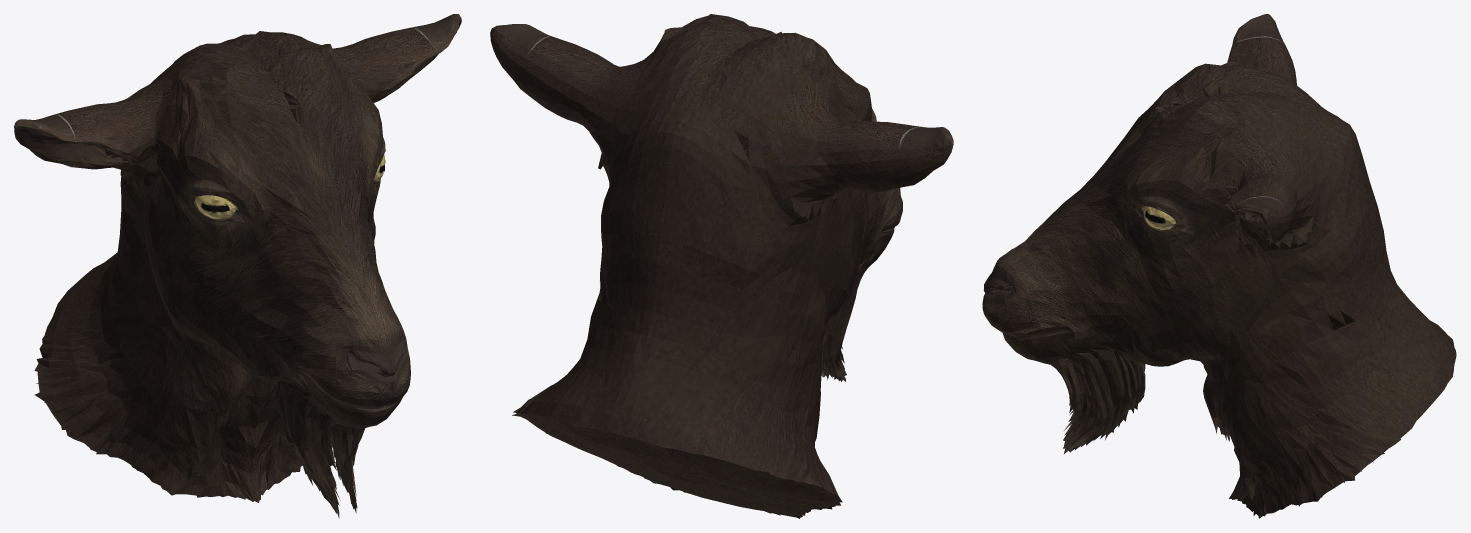
File: ewm_goathead.glb
3 renders of one model, left to right at view 1: azimuth 30°, elevation 25°; view 2: azimuth 150°, elevation 25°; view 3: azimuth 270°, elevation 25°, orthographic. The views are drawn at different scales.
Parts seen in each view (by area): view 1: ewm_goathead; view 2: ewm_goathead; view 3: ewm_goathead.
Boxes of the visible parts, x1,y1,x2,y2 form: ewm_goathead: [14, 14, 461, 518]; ewm_goathead: [490, 14, 953, 518]; ewm_goathead: [982, 14, 1456, 518].
Size of the model in its own units: 0.4487 by 0.4351 by 0.4485.
1 material, 1 textured.
